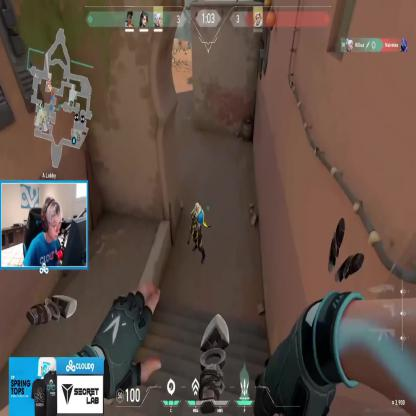enemy: (188, 199, 210, 263)
enemy_head: (195, 202, 199, 214)
